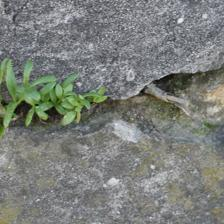Crack: (54, 29, 170, 83)
